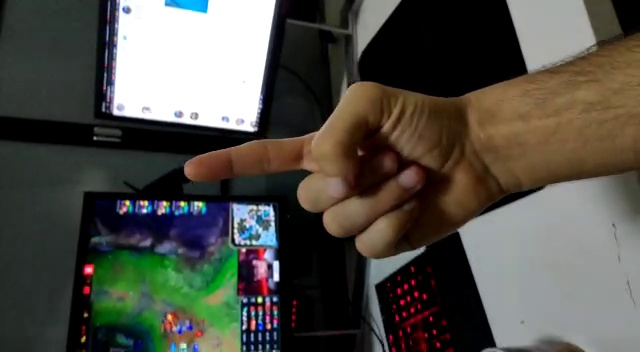One: (181, 79, 462, 257)
